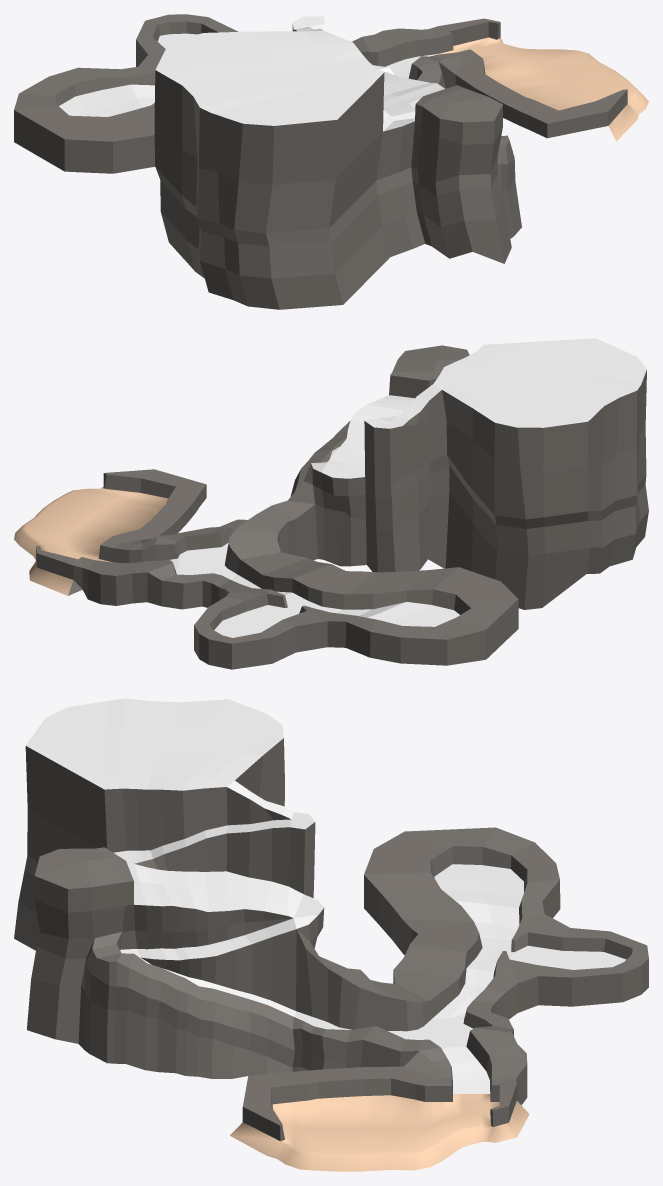
File: bosslvl.obj
The picture shows the model from 3 angles, top to bottom: view 1: azimuth 30°, elevation 25°; view 2: azimuth 150°, elevation 25°; view 3: azimuth 270°, elevation 25°; orthographic projection. The views are drawn at different scales.
Visible parts, largest first — view 1: BOSS; view 2: BOSS; view 3: BOSS.
Boxes of the visible parts, x1,y1,x2,y2 form: BOSS: (14, 14, 648, 309); BOSS: (14, 338, 648, 669); BOSS: (14, 698, 648, 1171).
Size of the model in its own units: 82.94 by 30.91 by 78.38.
